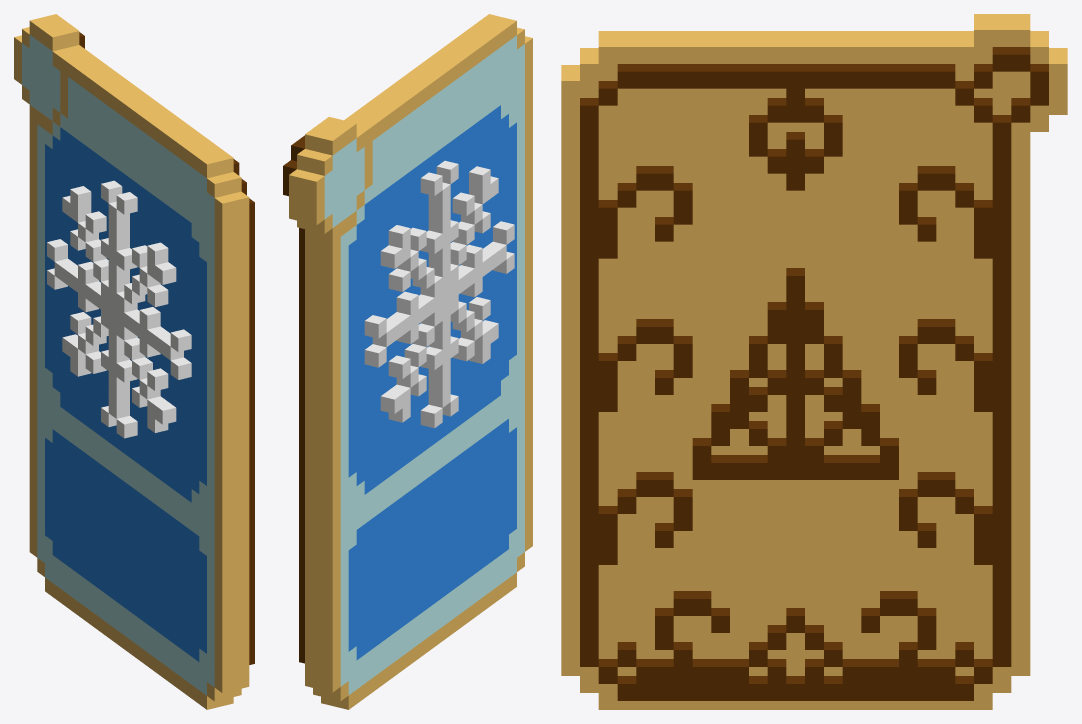
File: Blizzard.obj
3 views of the same model, side by side, from view 1: azimuth 30°, elevation 25°; view 2: azimuth 150°, elevation 25°; view 3: azimuth 270°, elevation 25° (orthographic). The views are drawn at different scales.
Size of the model in its own units: 0.4 by 4 by 2.7.
Materials: 1 (1 with a texture image).
